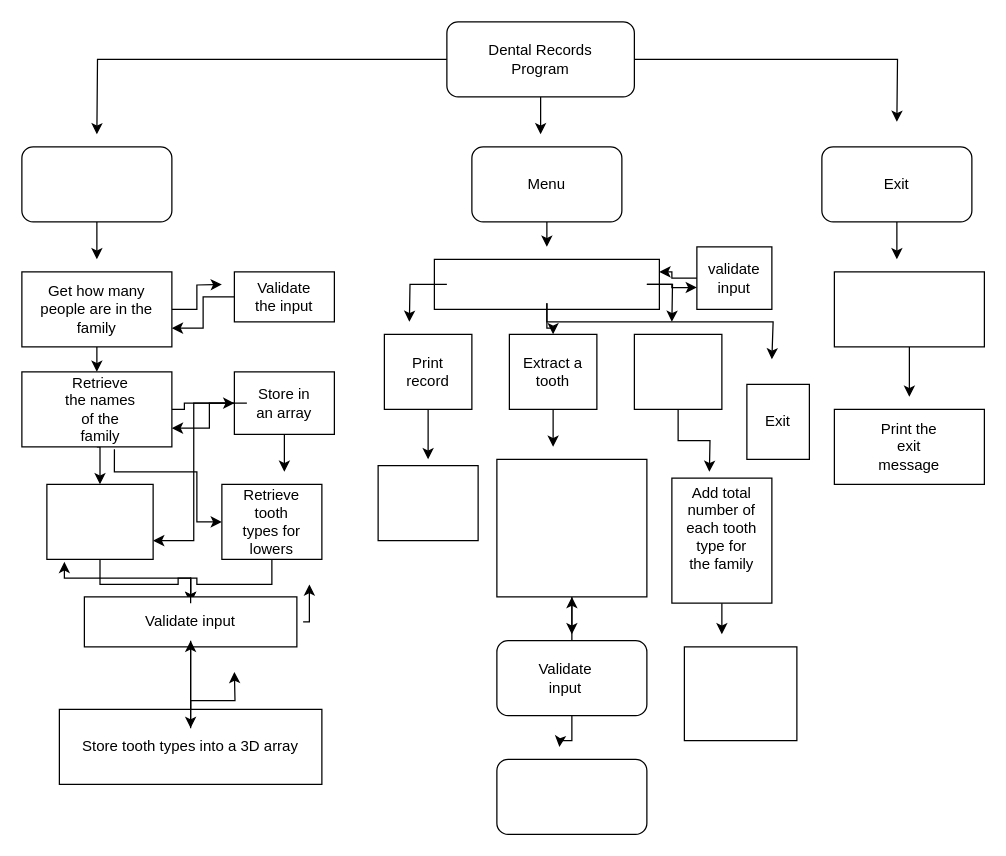
The diagram is 1006 pixels wide and 856 high, and some of its shapes have lost their labels. Each missing label, with the centre of its shape:
"Convert tooth to M in array" belongs at (x=571, y=796).
"Find the square roots" belongs at (x=740, y=693).
"Input" belongs at (x=96, y=184).
"Prompt user for their choice" belongs at (x=546, y=283).
"Report root canal" belongs at (x=677, y=371).
"Retrieve the family member and the tooth layer and number" belongs at (x=571, y=527).
"Retrieve tooth types for uppers" belongs at (x=99, y=521).
"Stop the menu from running" belongs at (x=908, y=309).
"Upper and lowers for each" belongs at (x=427, y=502).
